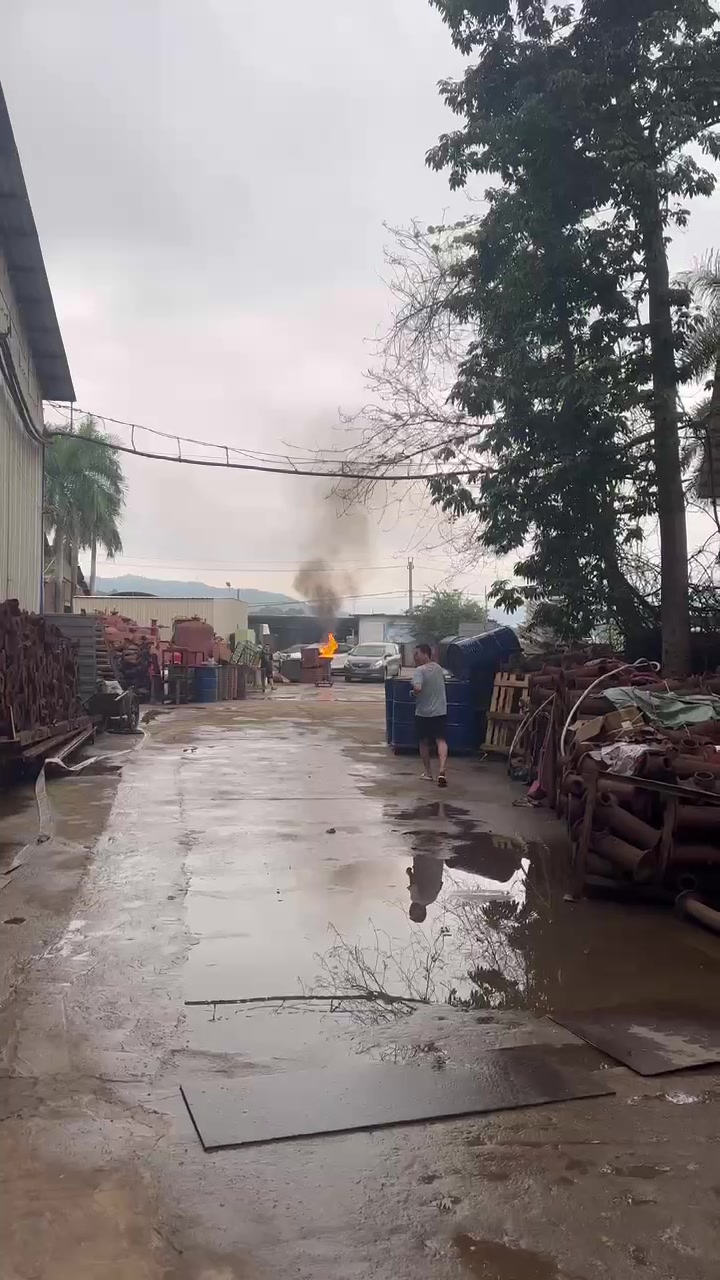fire: (318, 632, 337, 656)
